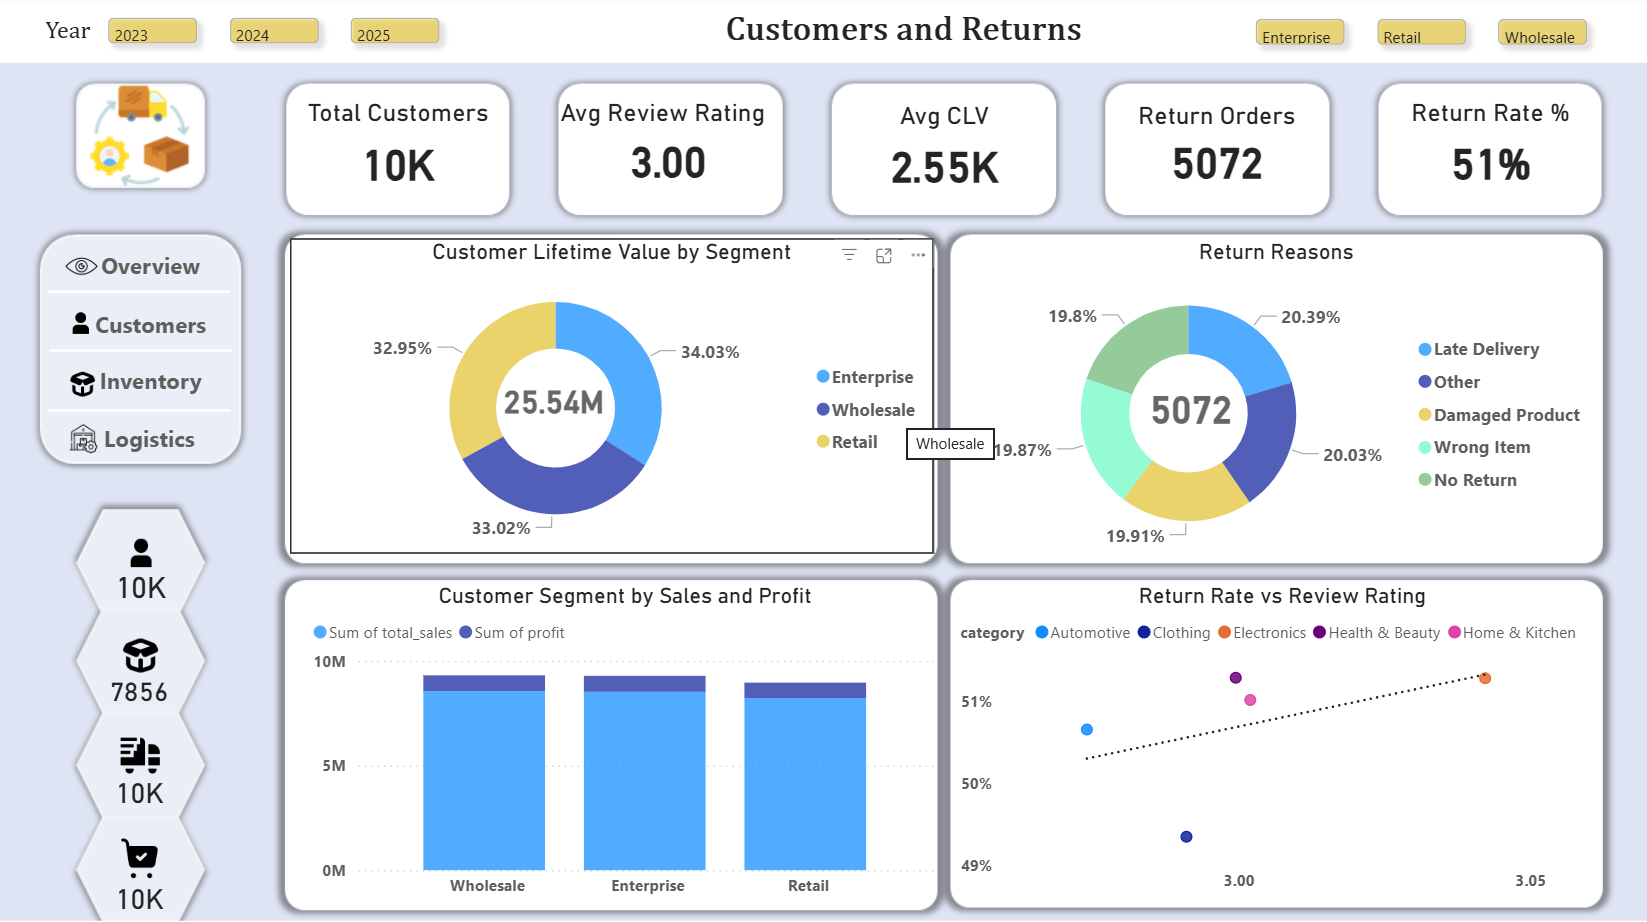

Layout of this report page (visuals, bound fields, positions):
{"tool":"powerbi","page":{"name":"Customers & Returns","canvas":[1280,720],"ordinal":1},"visuals":[{"type":"group","id":"g1","title":"Group 1","box":[225.6,188.4,498.8,244.2],"z":0},{"type":"donutChart","title":"Customer Lifetime Value by Segment","fields":{"Category":["final_eda_ready_orders.customer_segment"],"Y":["Sum(final_eda_ready_orders.customer_lifetime_value)"]},"box":[225.6,188.4,498.8,244.2],"z":0,"group":"g7"},{"type":"donutChart","title":"Return Reasons","fields":{"Category":["final_eda_ready_orders.return_reason"],"Y":["final_eda_ready_orders.total_orders"],"Series":["final_eda_ready_orders.return_reason"]},"box":[740.7,188.4,500,252.3],"z":0,"group":"g11"},{"type":"image","box":[44.4,245.6,37.8,16.7],"z":0,"group":"g9"},{"type":"group","id":"g2","title":"Group 3","box":[83.6,421.1,53.5,52.3],"z":0,"group":"g5"},{"type":"image","box":[88.3,421.1,44.2,22.1],"z":0,"group":"g2"},{"type":"image","box":[88.2,499,43,26.7],"z":0,"group":"g3"},{"type":"card","fields":{"Values":["final_eda_ready_orders.total_orders"]},"box":[85.9,604.8,47.7,26.7],"z":0,"group":"g4"},{"type":"image","box":[55.5,290,18.9,22.2],"z":1000,"group":"g9"},{"type":"card","fields":{"Values":["final_eda_ready_orders.total clv"]},"box":[372.1,290.3,116.3,49.3],"z":1000,"group":"g7"},{"type":"card","fields":{"Values":["Count(final_eda_ready_orders.customer_id)"]},"box":[83.6,443.2,53.5,30.2],"z":1000,"group":"g2"},{"type":"scatterChart","title":"Return Rate vs Review Rating","fields":{"Y":["final_eda_ready_orders.return_rate %"],"X":["final_eda_ready_orders.review_rating"],"Series":["final_eda_ready_orders.category"]},"box":[740.7,454.7,509.3,250],"z":1000},{"type":"group","id":"g3","title":"Group 4","box":[78.9,499,60.5,55.8],"z":1000,"group":"g5"},{"type":"card","fields":{"Values":["Count(final_eda_ready_orders.Product Name)"]},"box":[78.9,525.7,60.5,29.1],"z":1000,"group":"g3"},{"type":"image","box":[91.7,574.6,37.2,30.2],"z":1000,"group":"g4"},{"type":"image","box":[54.4,330,22.2,25.6],"z":2000,"group":"g9"},{"type":"columnChart","title":"Customer Segment by Sales and Profit","fields":{"Category":["final_eda_ready_orders.customer_segment"],"Y":["Sum(final_eda_ready_orders.total_sales)","Sum(final_eda_ready_orders.profit)"]},"box":[238.4,454.7,494.2,253.5],"z":2000},{"type":"group","id":"g4","title":"Group 5","box":[85.9,574.6,47.7,57],"z":2000,"group":"g5"},{"type":"image","box":[50,196.7,26.7,25.6],"z":3000,"group":"g9"},{"type":"group","id":"g5","title":"Group 7","box":[78.9,421.1,61.1,291.1],"z":3000},{"type":"group","id":"g6","title":"Group 6","box":[85.9,647.8,47.7,65.1],"z":3000,"group":"g5"},{"type":"group","id":"g7","title":"Group 2","box":[225.6,188.4,498.8,244.2],"z":3001,"group":"g1"},{"type":"card","title":"Total Customers","fields":{"Values":["CountNonNull(final_eda_ready_orders.customer_id)"]},"box":[225.6,79.1,167.4,77.9],"z":4000},{"type":"card","fields":{"Values":["final_eda_ready_orders.total_orders"]},"box":[85.9,686.2,47.7,26.7],"z":4000,"group":"g6"},{"type":"card","title":"Return Rate %","fields":{"Values":["final_eda_ready_orders.return_rate %"]},"box":[1073.3,79.1,167.4,75.6],"z":5000},{"type":"image","box":[90.6,647.8,37.2,41.9],"z":5009,"group":"g6"},{"type":"card","title":"Avg CLV","fields":{"Values":["Avg(final_eda_ready_orders.customer_lifetime_value)"]},"box":[643,81.4,181.4,76.7],"z":6000},{"type":"card","title":"Return Orders","fields":{"Values":["final_eda_ready_orders.returned_orders"]},"box":[864,81.4,161.6,70.9],"z":7000},{"type":"card","title":"Avg Review Rating","fields":{"Values":["Avg(final_eda_ready_orders.review_rating)"]},"box":[430.2,79.1,177.9,73.3],"z":8000},{"type":"group","id":"g8","title":"Group 1","box":[37.9,223.3,143.3,104.4],"z":9000},{"type":"group","id":"g9","title":"Group 2","box":[44.4,196.7,37.8,158.9],"z":10000},{"type":"textbox","box":[558.1,5.8,291.9,44.2],"z":11000},{"type":"group","id":"g10","title":"Group 8","box":[23.3,0,336,54.7],"z":12000},{"type":"group","id":"g11","title":"Group 10","box":[740.7,188.4,500,252.3],"z":13000},{"type":"group","id":"g12","title":"Group 9","box":[23.3,0,336.2,54.7],"z":13002,"group":"g10"},{"type":"group","id":"g13","title":"Group 9","box":[958.1,1.2,291.9,54.7],"z":13002,"group":"g14"},{"type":"card","fields":{"Values":["final_eda_ready_orders.returned_orders"]},"box":[883.7,301.2,80.2,38.4],"z":13002,"group":"g11"},{"type":"actionButton","box":[68.6,190.7,97.7,34.9],"z":14000},{"type":"shape","box":[37.9,223.3,141.9,12.8],"z":14000,"group":"g8"},{"type":"actionButton","box":[68.6,236,97.7,34.9],"z":15000},{"type":"shape","box":[39.1,268.6,141.9,12.8],"z":15000,"group":"g8"},{"type":"actionButton","box":[68.6,280.2,97.7,34.9],"z":16000},{"type":"shape","box":[37.9,315.2,141.9,12.8],"z":16000,"group":"g8"},{"type":"actionButton","box":[67.4,324.4,97.7,34.9],"z":17000},{"type":"group","id":"g14","title":"Group 8","box":[958.1,1.2,291.9,54.7],"z":18000},{"type":"advancedSlicerVisual","fields":{"Values":["final_eda_ready_orders.delivery_date.Variation.Date Hierarchy.Year"]},"box":[67.7,0,291.9,54.7],"z":19000,"group":"g12"},{"type":"advancedSlicerVisual","fields":{"Values":["final_eda_ready_orders.customer_segment"]},"box":[958.1,1.2,291.9,54.7],"z":19000,"group":"g13"},{"type":"textbox","box":[23.3,11.6,60.5,38.4],"z":20000,"group":"g12"}]}

Visuals, with their boxes in screenshot pixels (x1, y1, x2, y2), scaled from the page's 1280x720 canvas onto the 1647x922 screenshot:
"Group 1" group: (x1=290, y1=241, x2=932, y2=554)
"Customer Lifetime Value by Segment" donutChart: (x1=290, y1=241, x2=932, y2=554)
"Return Reasons" donutChart: (x1=953, y1=241, x2=1596, y2=564)
image: (x1=57, y1=315, x2=106, y2=336)
"Group 3" group: (x1=108, y1=539, x2=176, y2=606)
image: (x1=114, y1=539, x2=170, y2=568)
image: (x1=113, y1=639, x2=169, y2=673)
card - final_eda_ready_orders.total_orders: (x1=111, y1=774, x2=172, y2=809)
image: (x1=71, y1=371, x2=96, y2=400)
card - final_eda_ready_orders.total clv: (x1=479, y1=372, x2=628, y2=435)
card - Count(final_eda_ready_orders.customer_id): (x1=108, y1=568, x2=176, y2=606)
"Return Rate vs Review Rating" scatterChart: (x1=953, y1=582, x2=1608, y2=902)
"Group 4" group: (x1=102, y1=639, x2=179, y2=710)
card - Count(final_eda_ready_orders.Product Name): (x1=102, y1=673, x2=179, y2=710)
image: (x1=118, y1=736, x2=166, y2=774)
image: (x1=70, y1=423, x2=99, y2=455)
"Customer Segment by Sales and Profit" columnChart: (x1=307, y1=582, x2=943, y2=907)
"Group 5" group: (x1=111, y1=736, x2=172, y2=809)
image: (x1=64, y1=252, x2=99, y2=285)
"Group 7" group: (x1=102, y1=539, x2=180, y2=912)
"Group 6" group: (x1=111, y1=830, x2=172, y2=913)
"Group 2" group: (x1=290, y1=241, x2=932, y2=554)
"Total Customers" card: (x1=290, y1=101, x2=506, y2=201)
card - final_eda_ready_orders.total_orders: (x1=111, y1=879, x2=172, y2=913)
"Return Rate %" card: (x1=1381, y1=101, x2=1596, y2=198)
image: (x1=117, y1=830, x2=164, y2=883)
"Avg CLV" card: (x1=827, y1=104, x2=1061, y2=202)
"Return Orders" card: (x1=1112, y1=104, x2=1320, y2=195)
"Avg Review Rating" card: (x1=554, y1=101, x2=782, y2=195)
"Group 1" group: (x1=49, y1=286, x2=233, y2=420)
"Group 2" group: (x1=57, y1=252, x2=106, y2=455)
textbox: (x1=718, y1=7, x2=1094, y2=64)
"Group 8" group: (x1=30, y1=0, x2=462, y2=70)
"Group 10" group: (x1=953, y1=241, x2=1596, y2=564)
"Group 9" group: (x1=30, y1=0, x2=463, y2=70)
"Group 9" group: (x1=1233, y1=2, x2=1608, y2=72)
card - final_eda_ready_orders.returned_orders: (x1=1137, y1=386, x2=1240, y2=435)
actionButton: (x1=88, y1=244, x2=214, y2=289)
shape: (x1=49, y1=286, x2=231, y2=302)
actionButton: (x1=88, y1=302, x2=214, y2=347)
shape: (x1=50, y1=344, x2=233, y2=360)
actionButton: (x1=88, y1=359, x2=214, y2=404)
shape: (x1=49, y1=404, x2=231, y2=420)
actionButton: (x1=87, y1=415, x2=212, y2=460)
"Group 8" group: (x1=1233, y1=2, x2=1608, y2=72)
advancedSlicerVisual - final_eda_ready_orders.delivery_date.Variation.Date Hierarchy.Year: (x1=87, y1=0, x2=463, y2=70)
advancedSlicerVisual - final_eda_ready_orders.customer_segment: (x1=1233, y1=2, x2=1608, y2=72)
textbox: (x1=30, y1=15, x2=108, y2=64)
